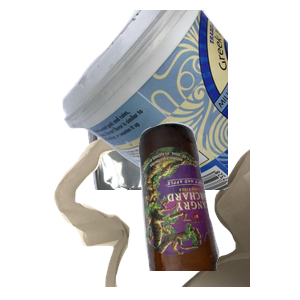glass: (136, 120, 300, 300)
metal: (85, 48, 300, 228)
plastic: (60, 10, 300, 190)
trash: (51, 120, 291, 300)
